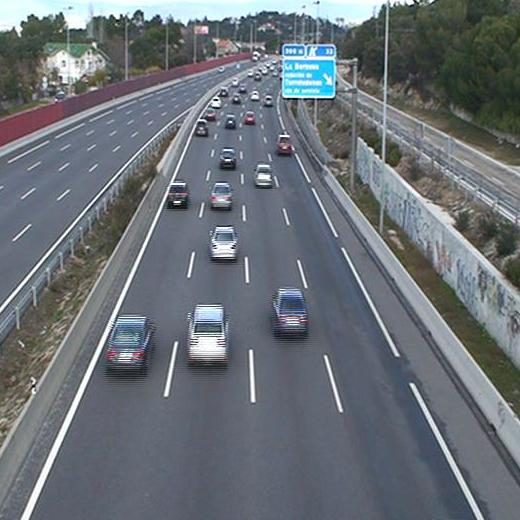car: (105, 313, 153, 369), (185, 304, 229, 360), (271, 287, 309, 334), (210, 226, 239, 258), (165, 181, 189, 205), (210, 182, 234, 206), (252, 162, 275, 185), (218, 148, 236, 166), (277, 135, 293, 152), (194, 119, 208, 134), (225, 113, 238, 127), (244, 110, 256, 121), (212, 97, 222, 108), (264, 96, 274, 107), (232, 93, 241, 103), (250, 91, 259, 101)
